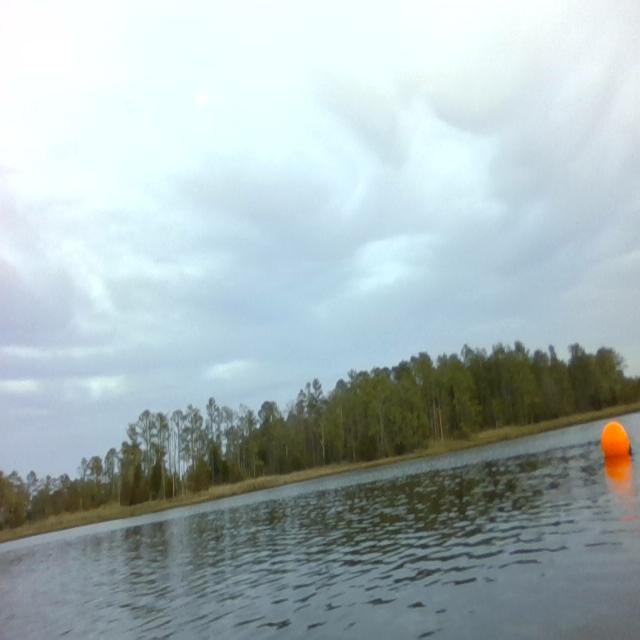Buoy: (600, 418, 634, 465)
